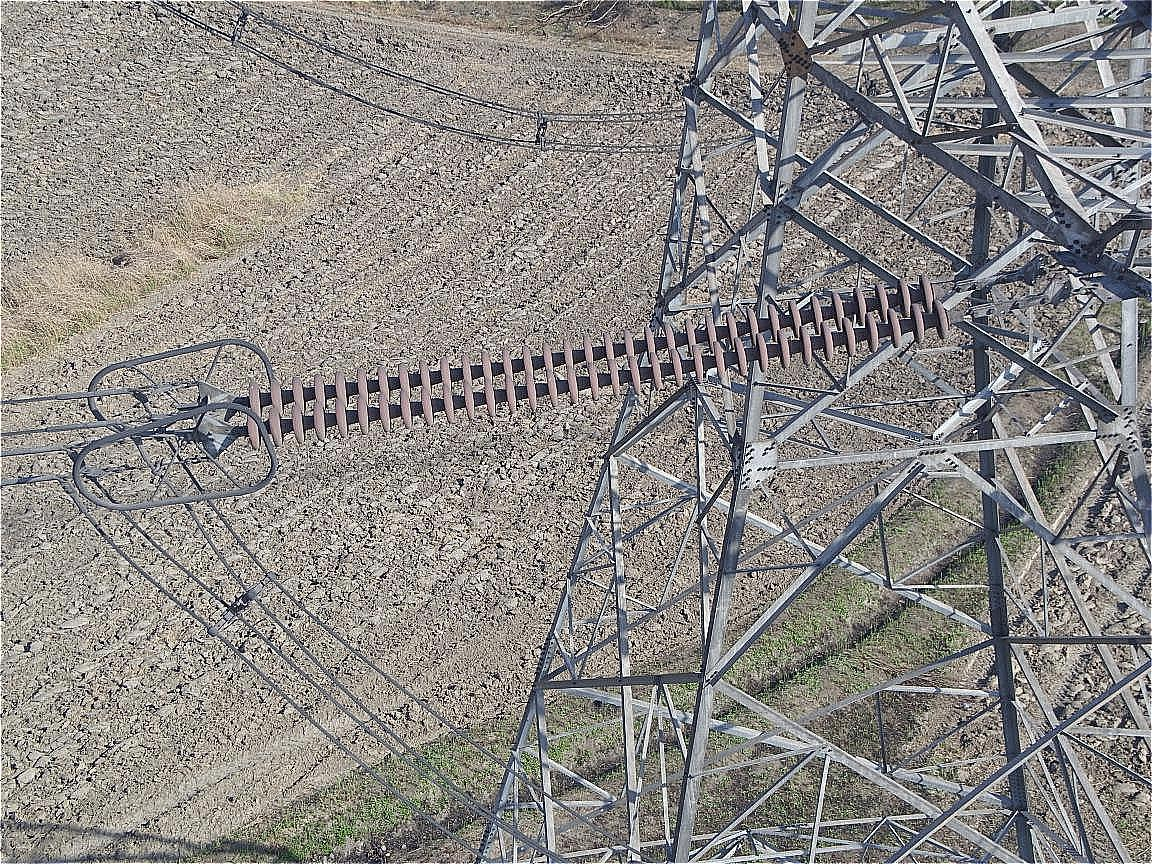insultor1: (221, 276, 987, 457)
